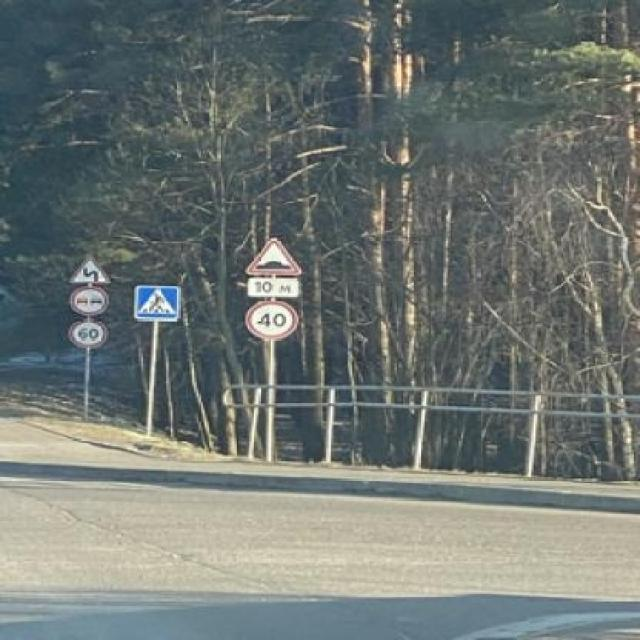forb_speed_over_40: (248, 298, 300, 340)
forb_speed_over_60: (69, 322, 109, 348)
